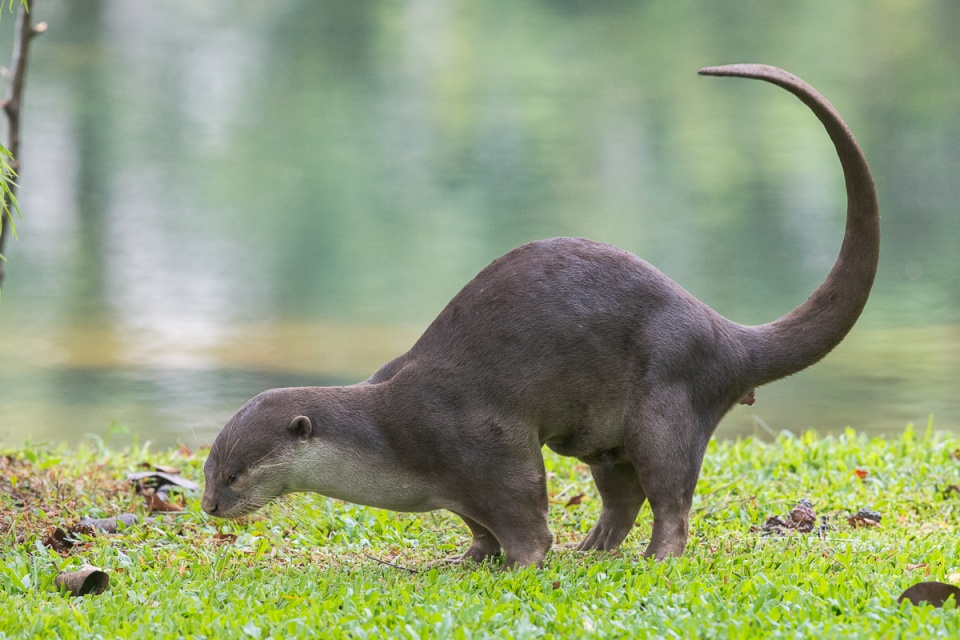otter: (188, 45, 909, 571)
